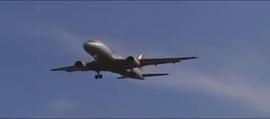aircraft: (49, 38, 199, 80)
